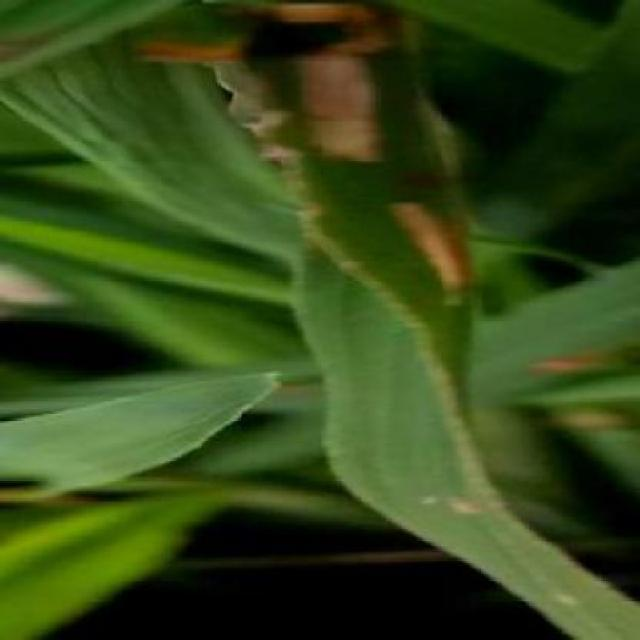Bacterial_Leaf_Blight: (277, 38, 412, 179), (375, 184, 483, 319)
